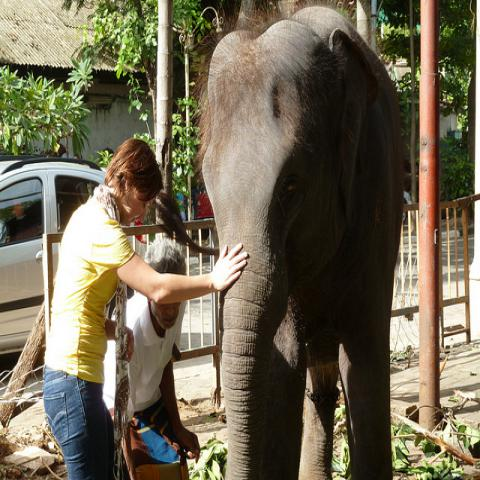car: (1, 154, 108, 352), (105, 219, 149, 320)
